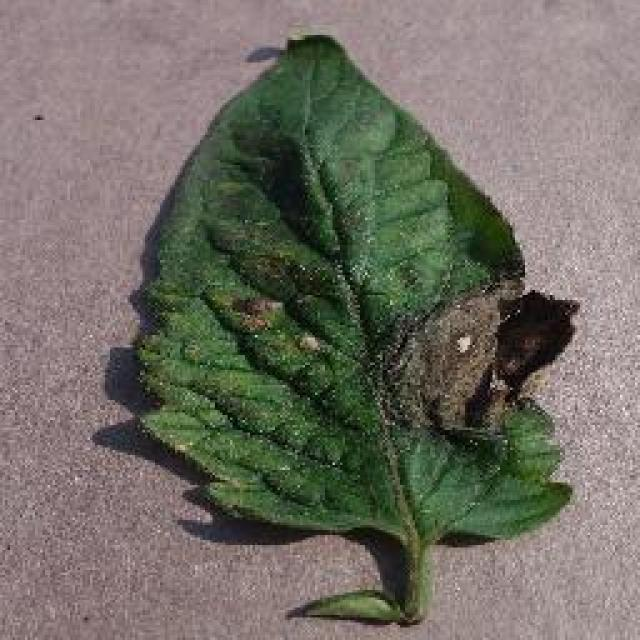Tomato Late Blight: (207, 172, 573, 443)
